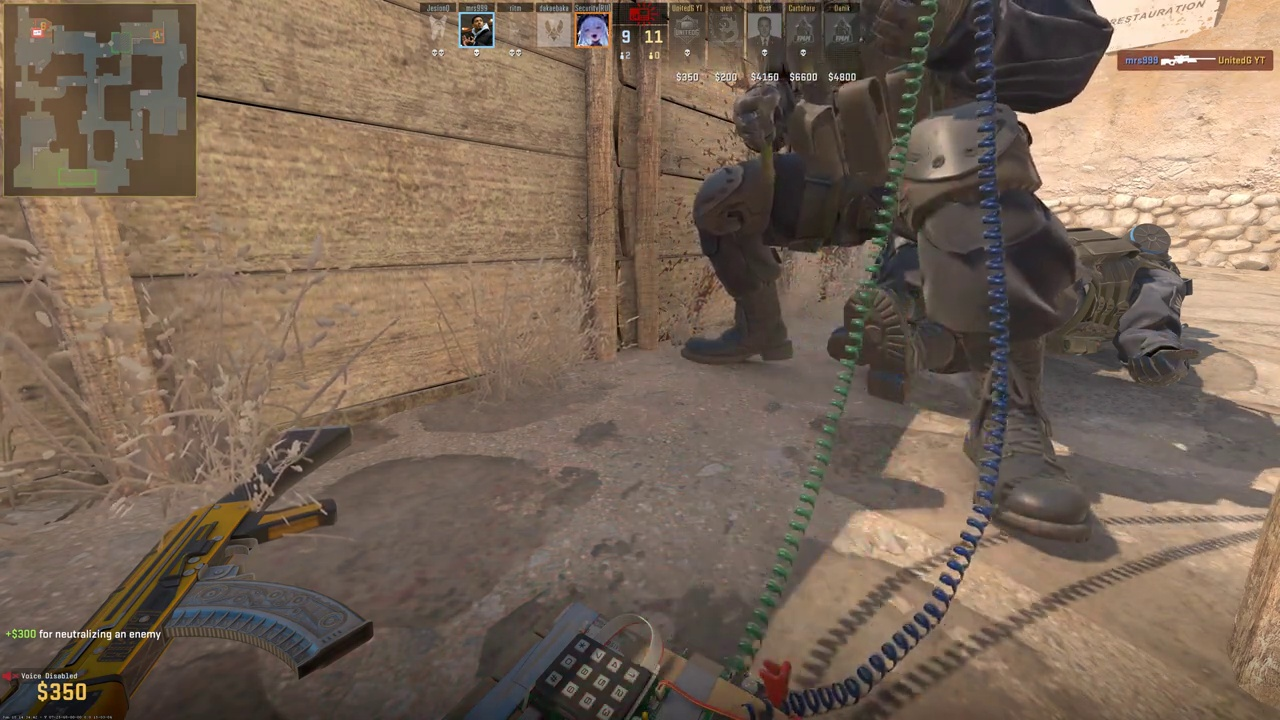CT: (680, 1, 1109, 443)
